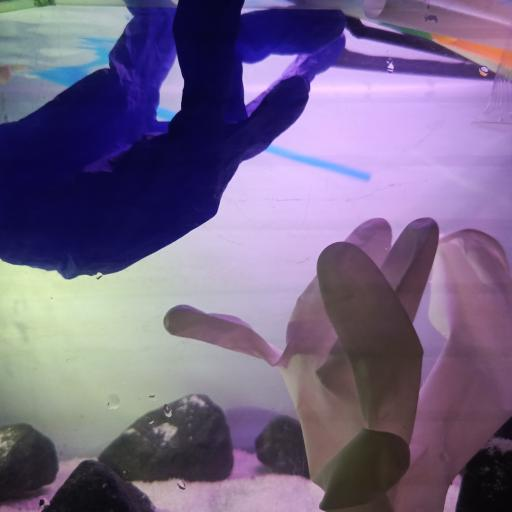glove: (161, 216, 512, 512), (2, 2, 346, 278)
plastic_cup: (471, 46, 512, 132)
plastic_straw: (36, 65, 369, 186), (364, 0, 512, 49), (348, 18, 475, 62), (341, 51, 497, 84), (428, 35, 512, 71), (0, 2, 124, 14)
